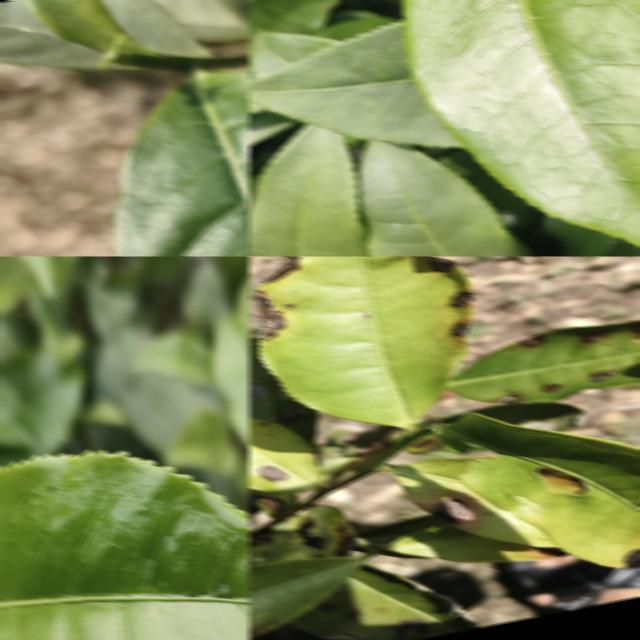Leaf: (403, 0, 640, 246), (0, 452, 250, 640), (256, 256, 474, 431), (436, 412, 640, 566), (248, 22, 458, 146), (114, 72, 250, 256), (359, 140, 524, 256), (248, 124, 369, 256), (448, 320, 640, 403), (390, 458, 550, 551), (296, 564, 478, 640), (248, 556, 364, 636), (357, 515, 553, 562), (25, 0, 160, 67), (248, 339, 318, 443), (0, 0, 103, 70), (248, 417, 323, 508), (248, 0, 339, 72), (103, 0, 211, 57), (163, 409, 237, 475), (270, 504, 356, 560), (132, 330, 212, 385), (252, 31, 342, 78)
